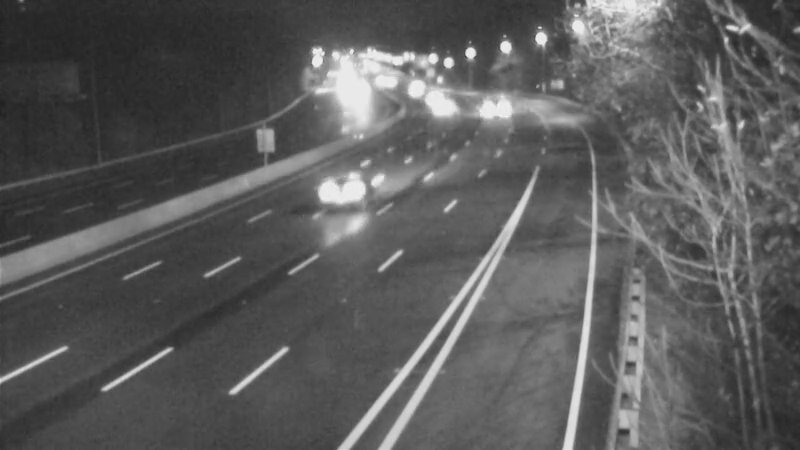vehicle: (312, 153, 392, 233), (389, 66, 439, 116), (411, 73, 461, 123), (414, 84, 464, 134), (466, 86, 516, 136), (330, 69, 380, 119)
